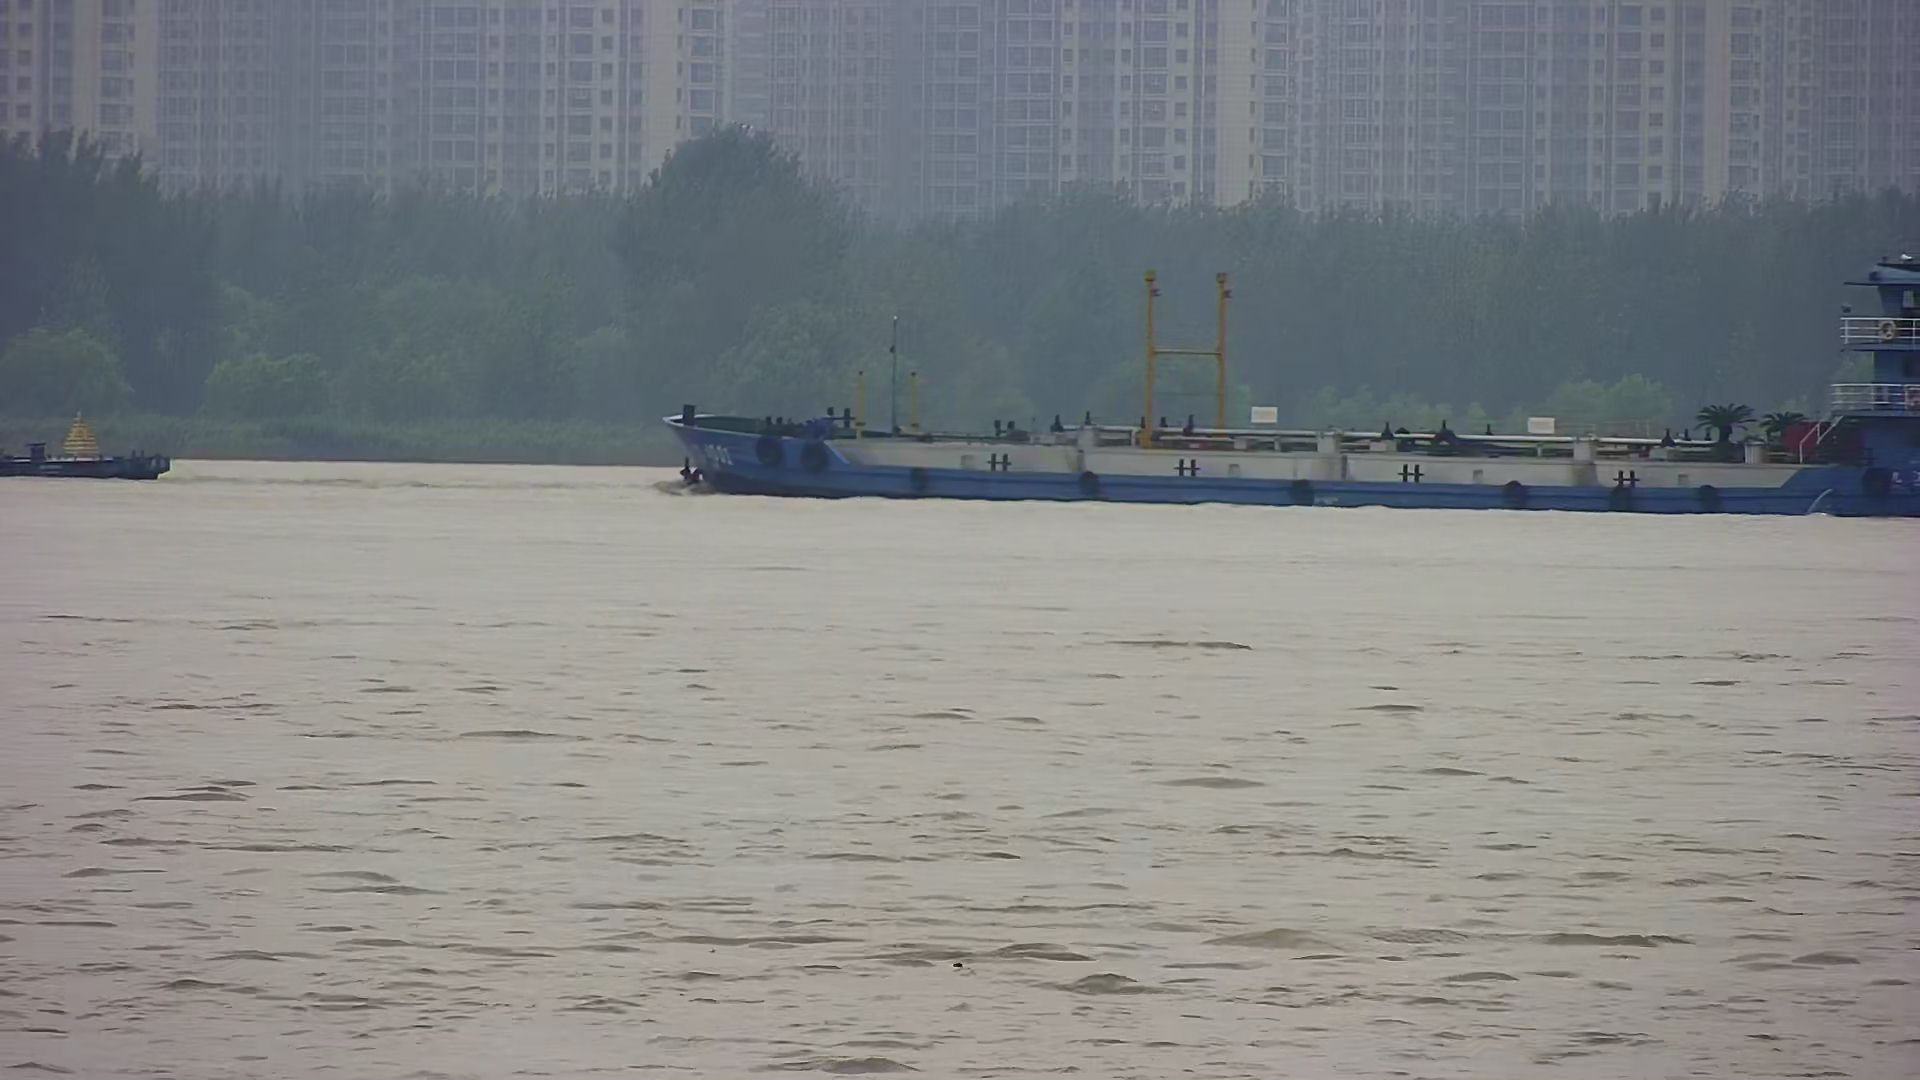boat: (3, 400, 171, 483)
ship: (665, 251, 1919, 524)
